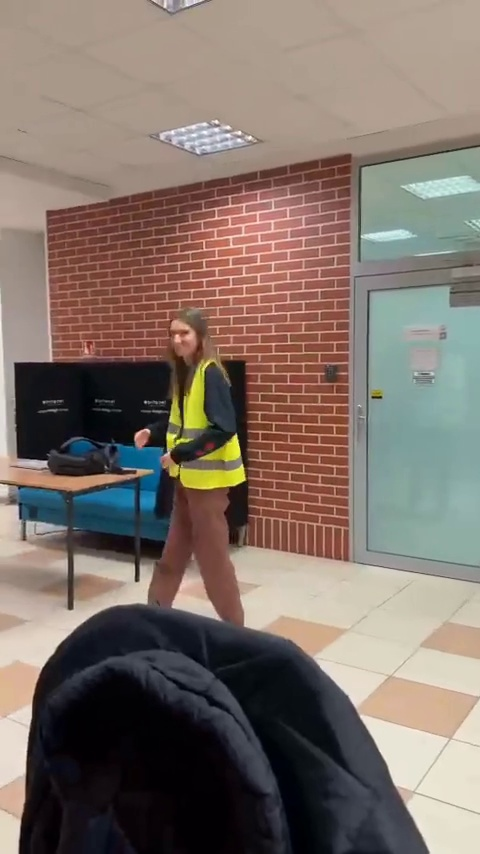vest: (134, 309, 260, 614)
